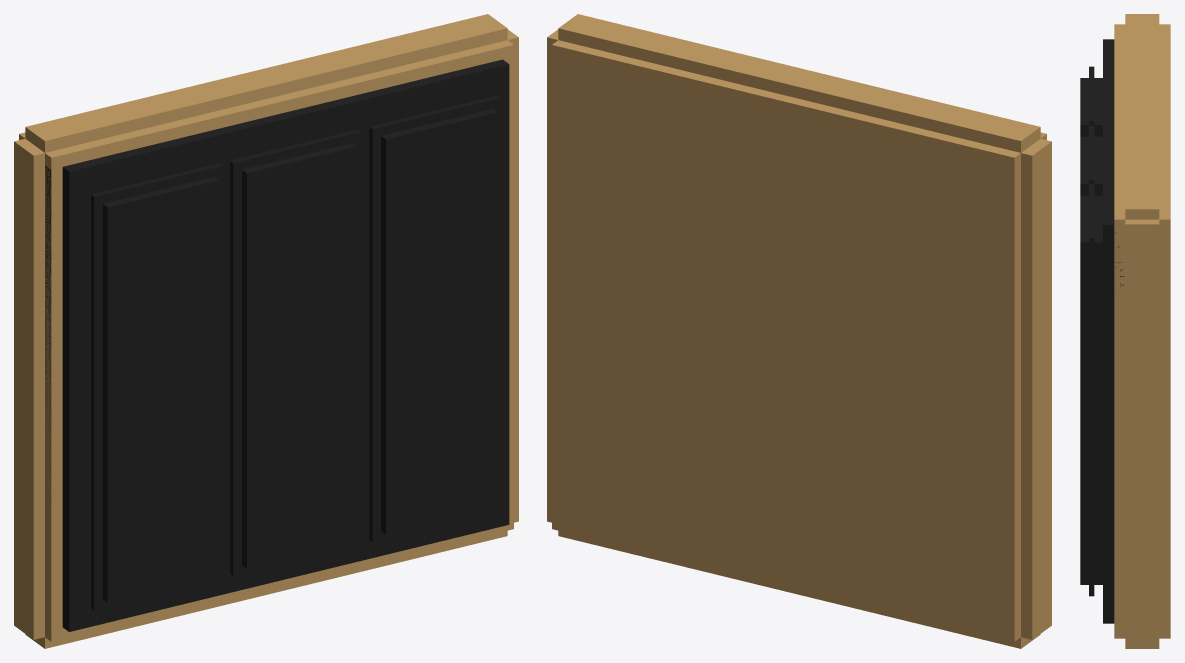
The model's file is model-3-gang-1-way.glb.
3 renders of one model, left to right at view 1: azimuth 30°, elevation 25°; view 2: azimuth 150°, elevation 25°; view 3: azimuth 270°, elevation 25°, orthographic. The views are drawn at different scales.
Visible parts, largest first — view 1: vazra; view 2: vazra; view 3: vazra.
Part boxes in pixels (x1,y1,x2,y2): vazra: (14,14,518,648); vazra: (547,14,1051,648); vazra: (1080,14,1170,648).
Bounding box in the file's own units: 0.086 × 0.086 × 0.016.
